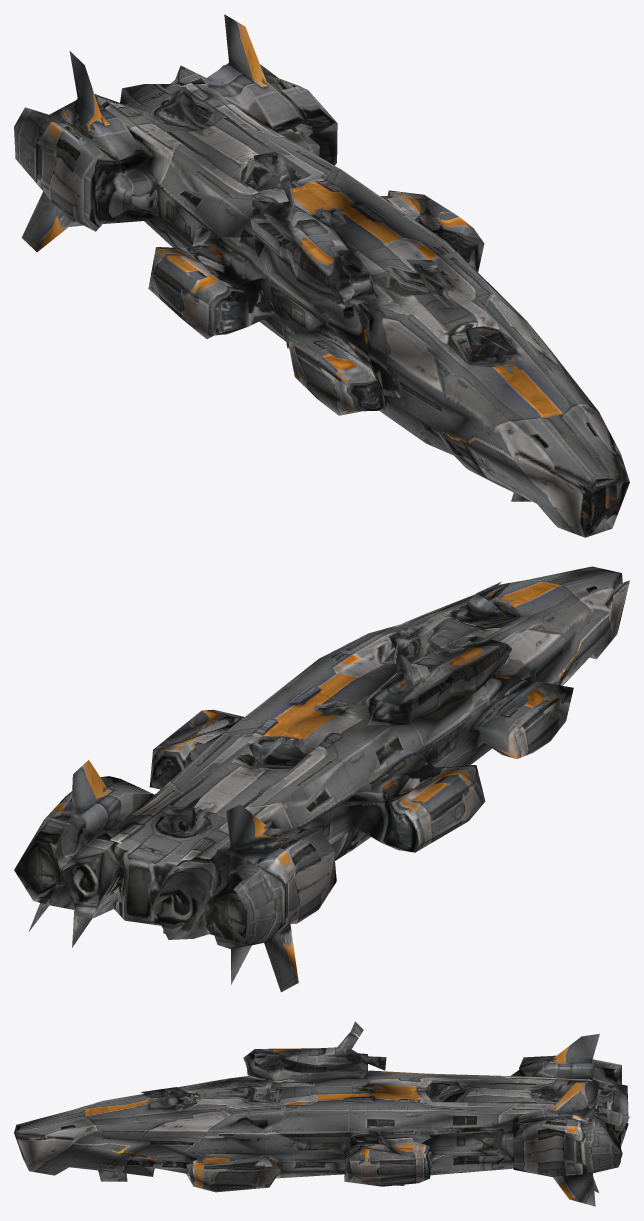
The model's file is tripo-rebaked-1000.glb.
The picture shows the model from 3 angles, top to bottom: view 1: azimuth 30°, elevation 25°; view 2: azimuth 150°, elevation 25°; view 3: azimuth 270°, elevation 25°; orthographic projection. The views are drawn at different scales.
Parts seen in each view (by area): view 1: Low; view 2: Low; view 3: Low.
Boxes of the visible parts, x1=… form: Low: x1=14, y1=14, x2=629, y2=537; Low: x1=14, y1=566, x2=629, y2=992; Low: x1=14, y1=1021, x2=629, y2=1206.
Bounding box in the file's own units: 0.3292 × 0.2513 × 0.9783.
Materials: 1 (1 with a texture image).
